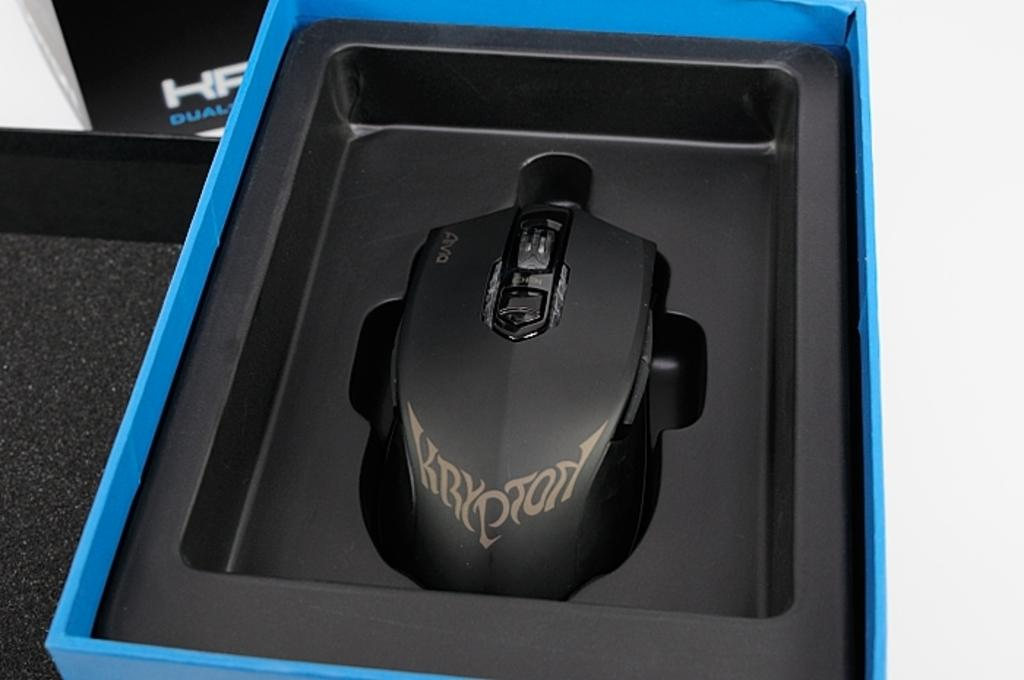Computer-mouse: (392, 206, 654, 598)
